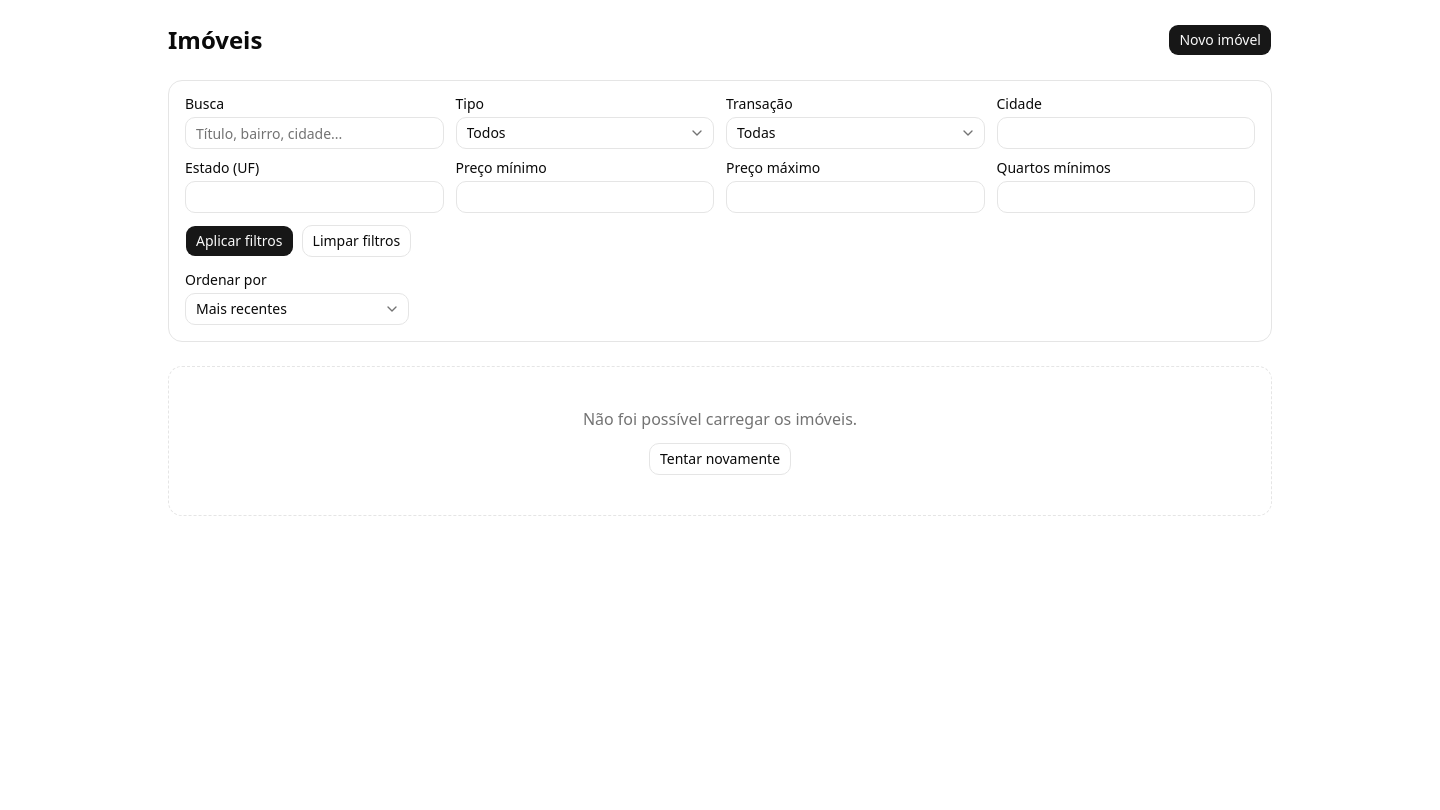
it: PropertiesPage › shows an error state and retries
Check: the text "Não foi possível carregar os imóveis." is shown, box 583,407 -> 857,431
Click the button "Tentar novamente". click: (720, 459)
box: 649,443 -> 791,475
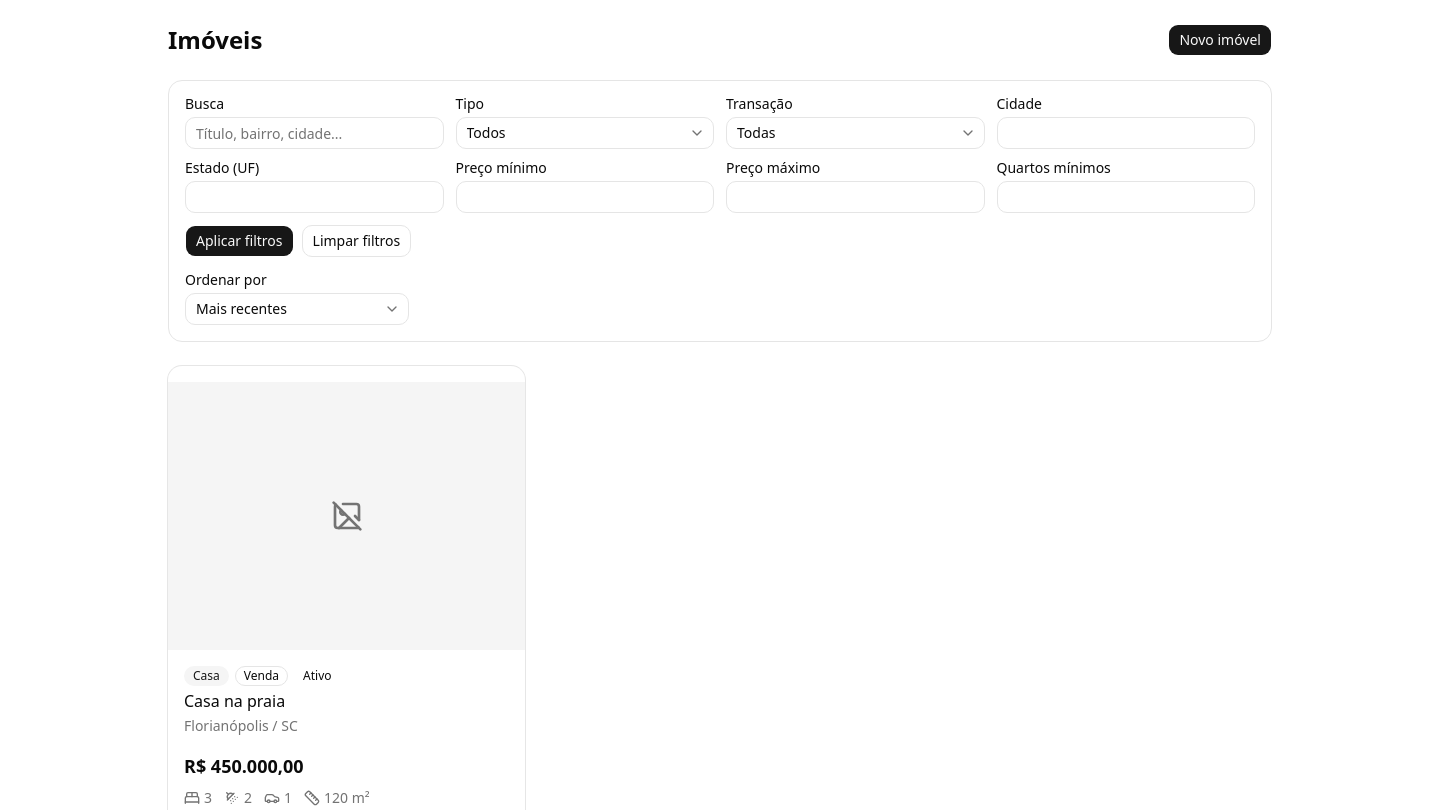
Check: the text "Casa na praia" is shown, box 184,690 -> 285,712
